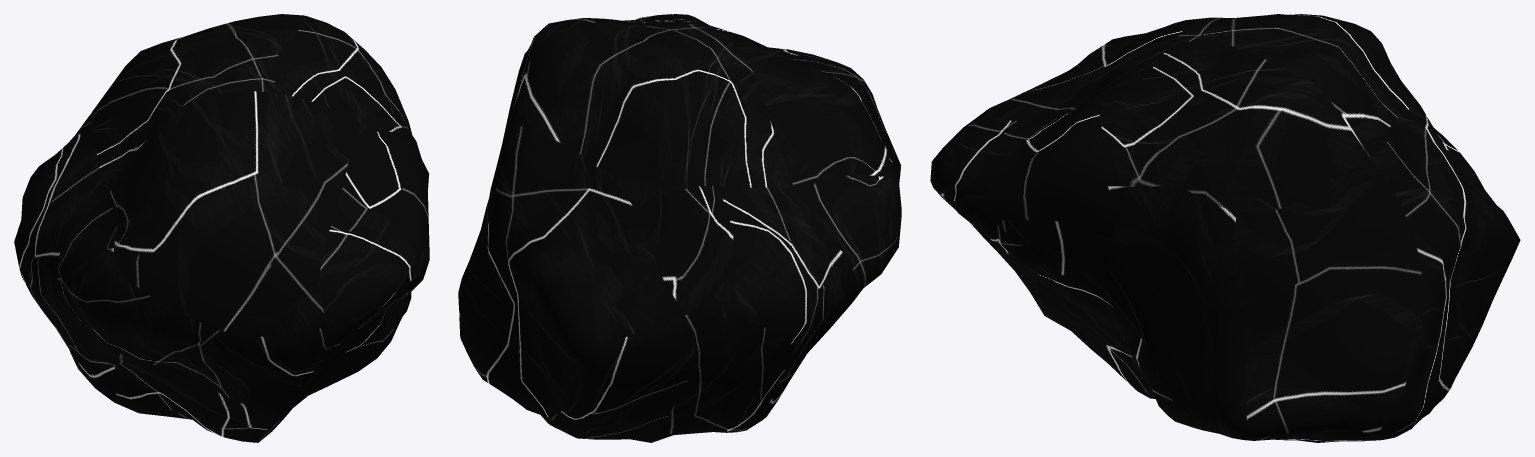
File: Rock_02_lo.fbx
3 renders of one model, left to right at view 1: azimuth 30°, elevation 25°; view 2: azimuth 150°, elevation 25°; view 3: azimuth 270°, elevation 25°, orthographic. The views are drawn at different scales.
Parts seen in each view (by area): view 1: Rock_02_lo; view 2: Rock_02_lo; view 3: Rock_02_lo.
Boxes of the visible parts, x1,y1,x2,y2 form: Rock_02_lo: (14,14,429,442); Rock_02_lo: (458,14,901,442); Rock_02_lo: (930,14,1520,442).
Bounding box in the file's own units: 164 × 159 × 211.
